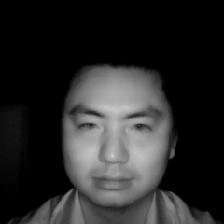normal: (38, 46, 187, 214)
